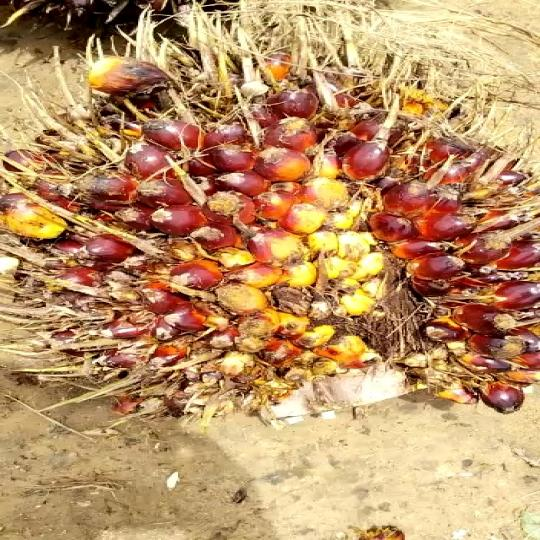masak: (0, 44, 540, 447)
